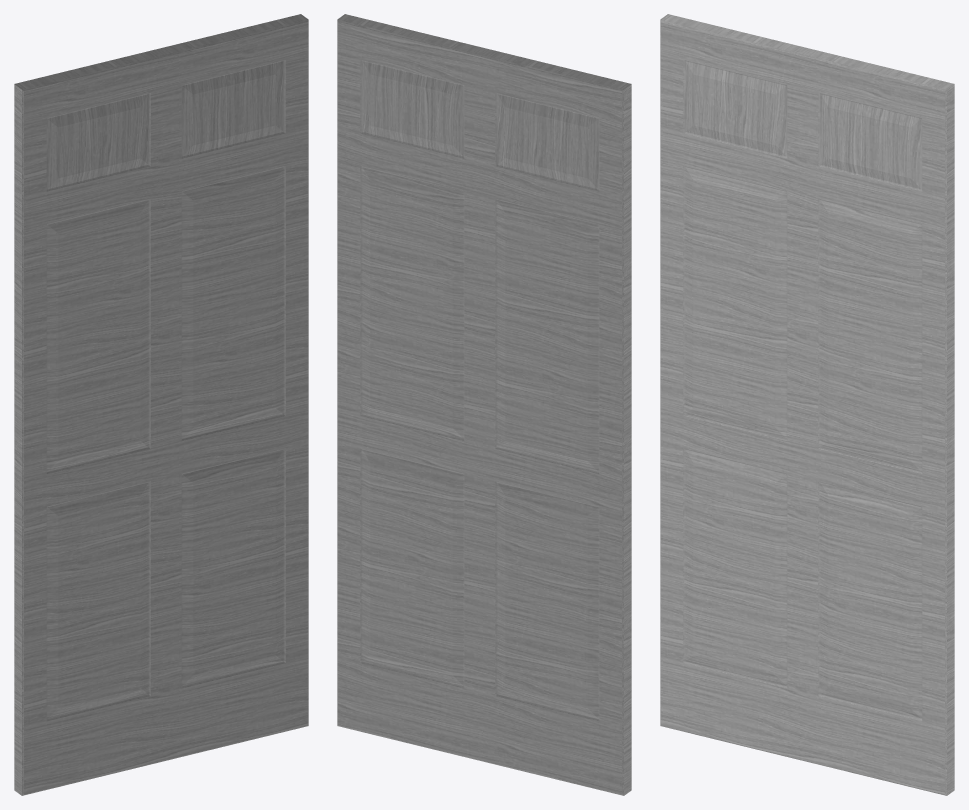
File: StandardDoor1(2)_04cc9278.obj
3 views of the same model, side by side, from view 1: azimuth 30°, elevation 25°; view 2: azimuth 150°, elevation 25°; view 3: azimuth 330°, elevation 25° (orthographic).
Visible parts, largest first — view 1: StandardDoor1_(2)_04cc9278; view 2: StandardDoor1_(2)_04cc9278; view 3: StandardDoor1_(2)_04cc9278.
Part boxes in pixels (bbox=[...]): StandardDoor1_(2)_04cc9278: bbox=[14, 14, 308, 795]; StandardDoor1_(2)_04cc9278: bbox=[337, 14, 631, 795]; StandardDoor1_(2)_04cc9278: bbox=[660, 14, 954, 795].
Size of the model in its own units: 0.85 by 2 by 0.056.
